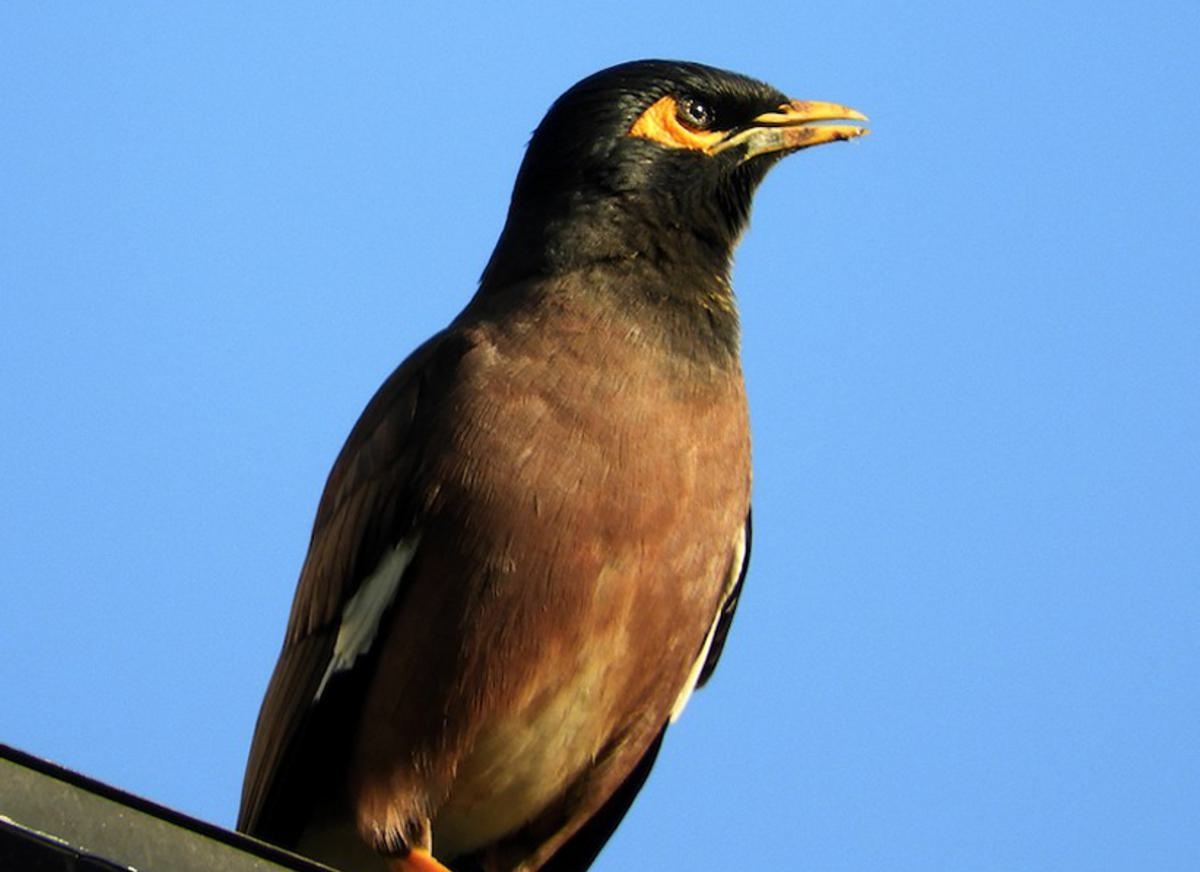myna: (211, 27, 929, 851)
